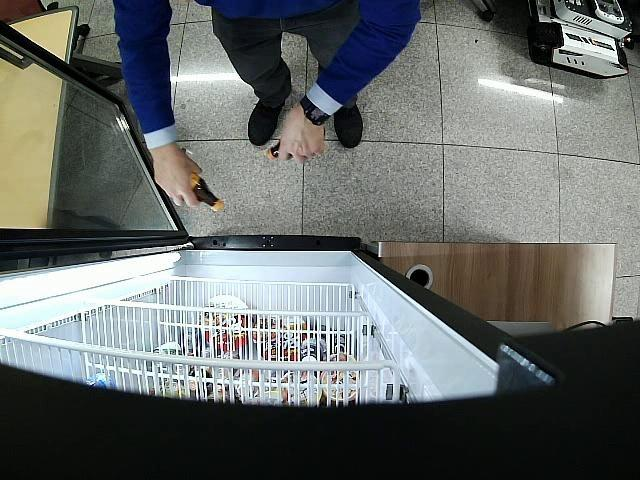17_vita500: (189, 172, 224, 212), (266, 140, 292, 160)
